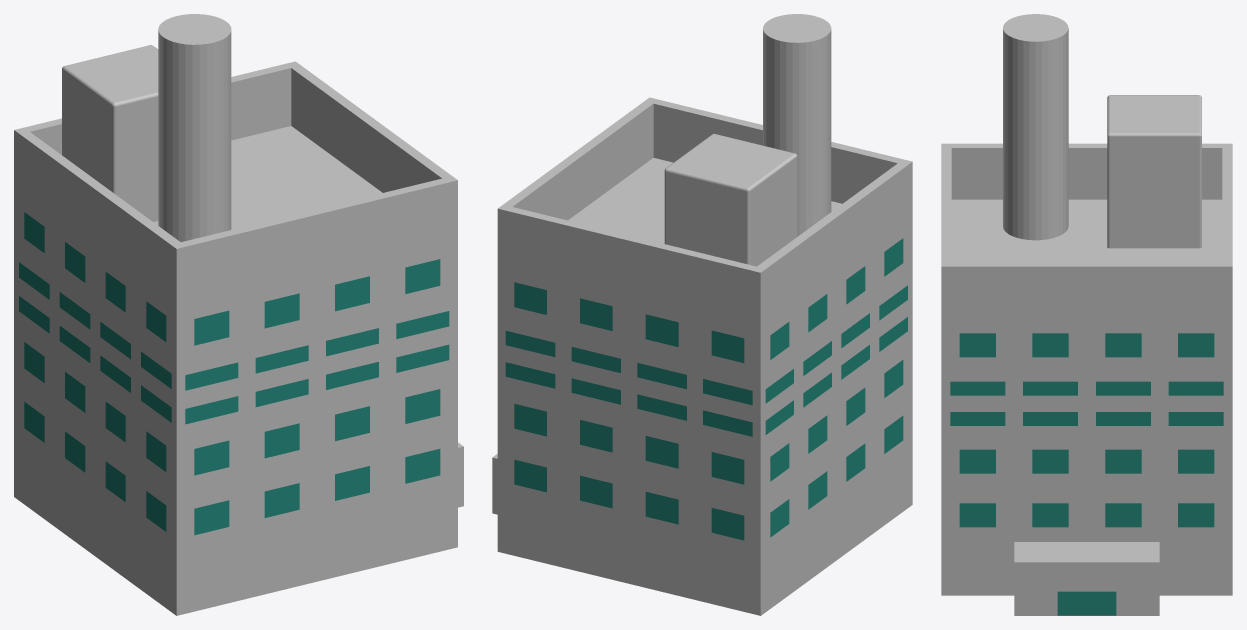
The model's file is buil1.fbx.
The picture shows the model from 3 angles, left to right: view 1: azimuth 30°, elevation 25°; view 2: azimuth 150°, elevation 25°; view 3: azimuth 270°, elevation 25°; orthographic projection. The views are drawn at different scales.
Visible parts, largest first — view 1: 平面.007; view 2: 平面.007; view 3: 平面.007.
Part boxes in pixels (x1,y1,x2,y2): 平面.007: (14, 14, 463, 615); 平面.007: (492, 14, 912, 615); 平面.007: (941, 14, 1232, 615).
Bounding box in the file's own units: 342 × 529 × 294.
